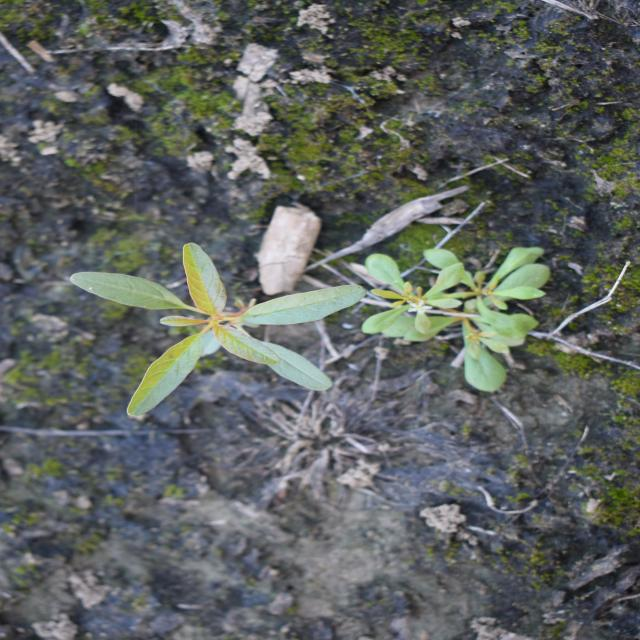Carpetweed: (358, 244, 551, 393)
Waterhemp: (65, 241, 371, 419)
